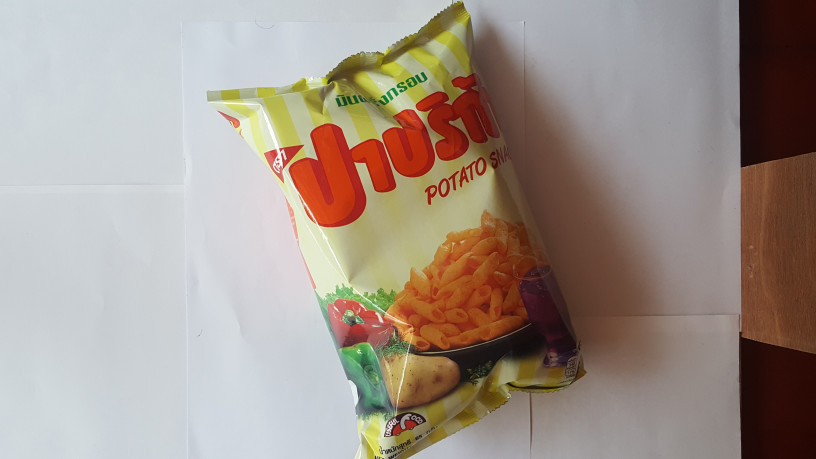paprika: (183, 4, 597, 459)
